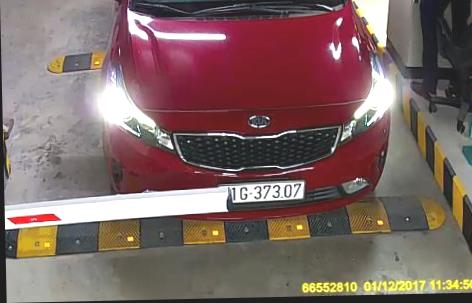License_Plate: (218, 180, 308, 202)
